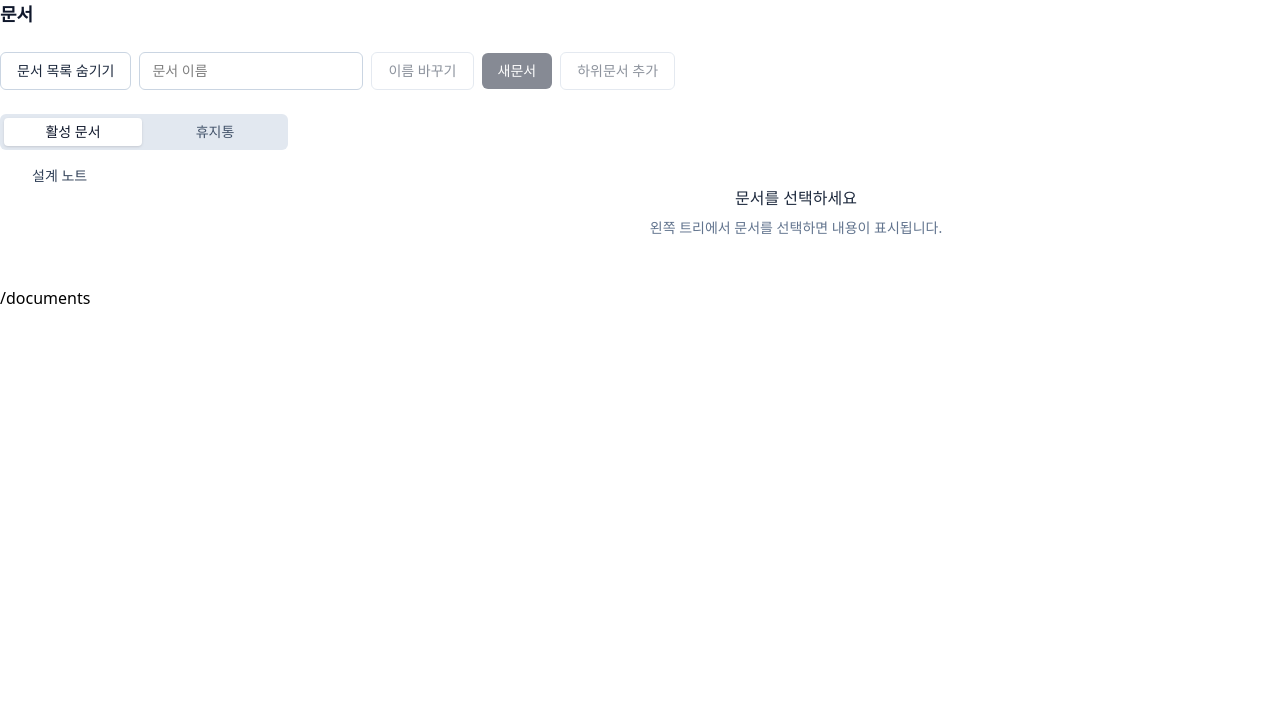
Test: DocumentWorkspacePage 조립 (트리 + 브레드크럼 + 뷰어 + 툴바) › 삭제 실패 시 변이 오류를 페이지 레벨 단일 sink 로 표면화한다 (Req 5.1, 9.4)
Click the button "설계 노트" at (156, 176), box [32,166,280,186]
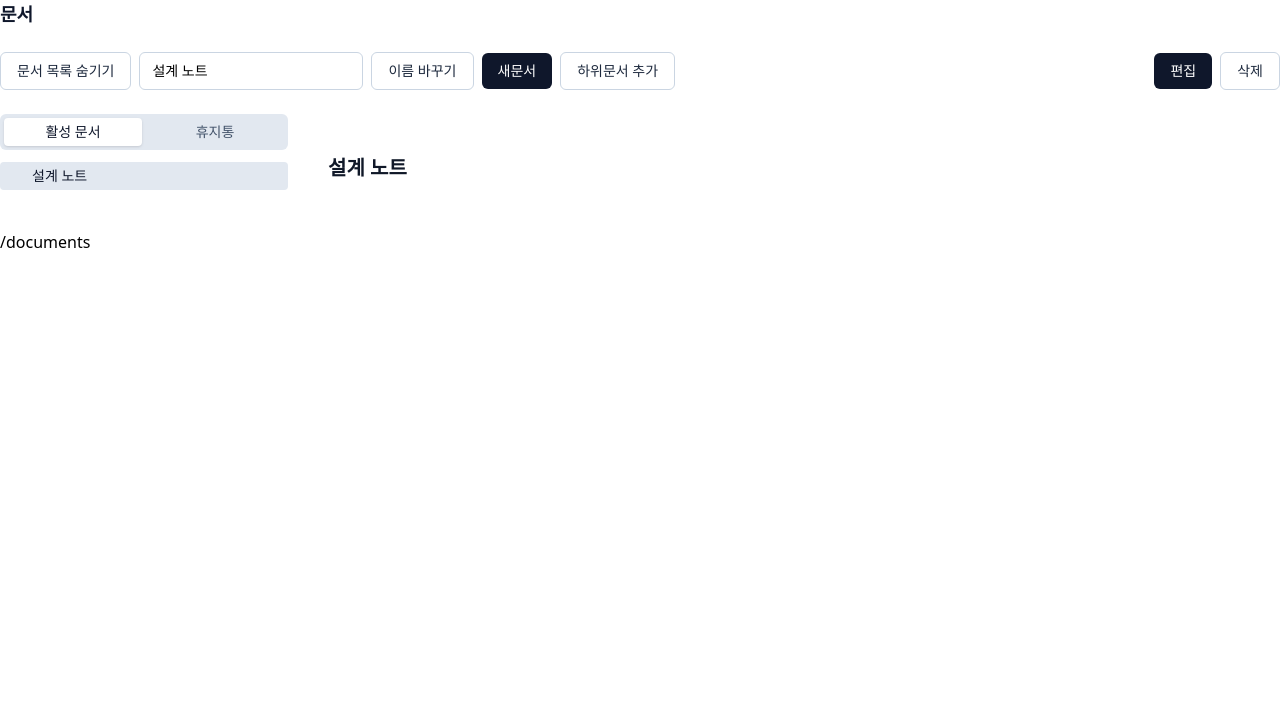
Click the button "삭제" at (1250, 71), box [1220,52,1279,90]
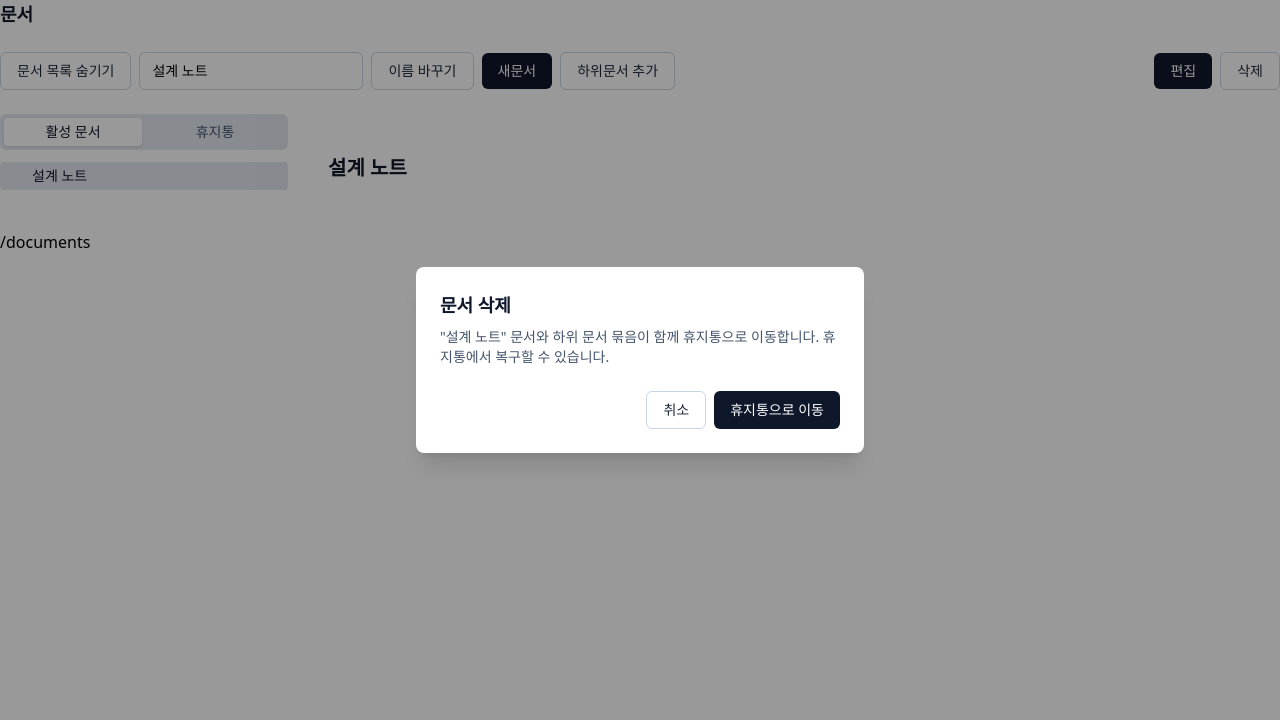
# 삭제 오류는 툴바가 아니라 페이지 헤더 아래 단일 ErrorMessage 로 노출되어야 한다.
Click the button "휴지통으로 이동" at (777, 410), box [714,391,840,429]
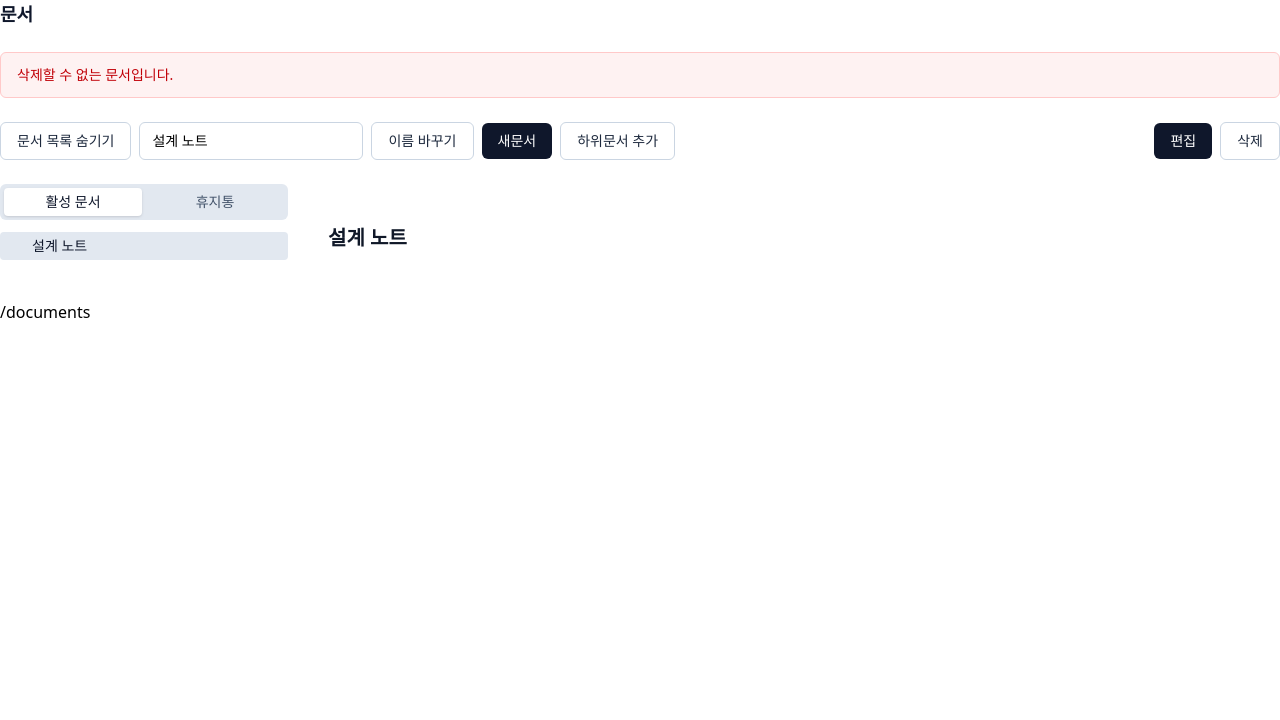
Now the text "삭제할 수 없는 문서입니다." is shown, box [17,65,173,84]
